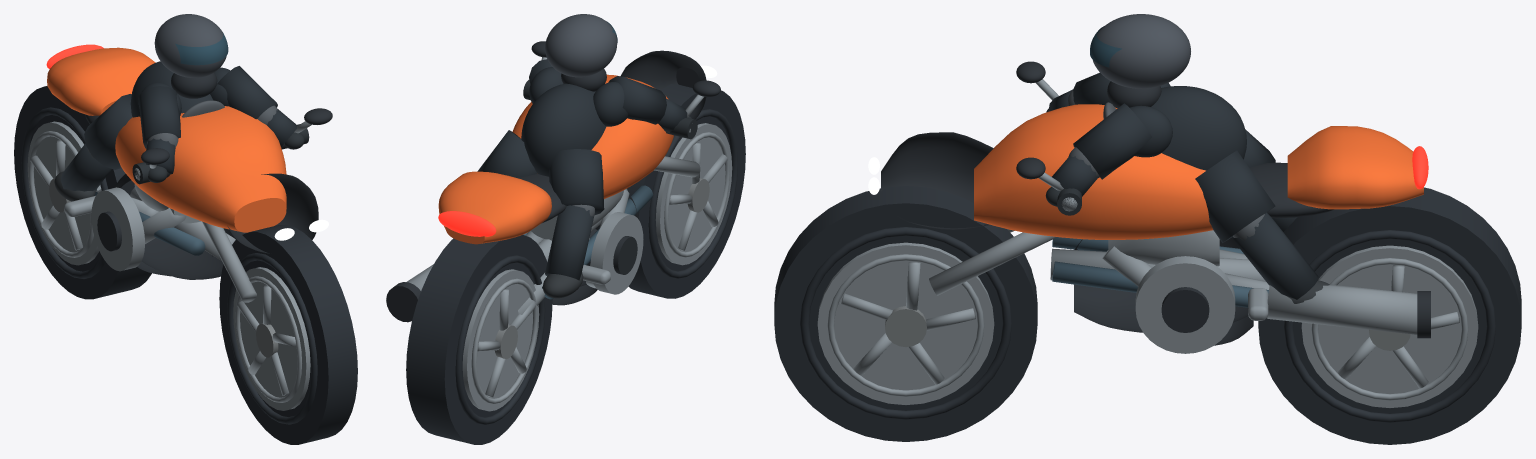
The model's file is bike_nightjar.glb.
The picture shows the model from 3 angles, left to right: view 1: azimuth 30°, elevation 25°; view 2: azimuth 150°, elevation 25°; view 3: azimuth 270°, elevation 25°; orthographic projection. The views are drawn at different scales.
Parts seen in each view (by area): view 1: Blender Vehicle - Nightjar Streetfighter.016 - Vehicle Body, WheelMesh_BikeWheel_Front_bike_nightjar.016, WheelMesh_BikeWheel_Rear_bike_nightjar.016; view 2: Blender Vehicle - Nightjar Streetfighter.016 - Vehicle Body, WheelMesh_BikeWheel_Rear_bike_nightjar.016, WheelMesh_BikeWheel_Front_bike_nightjar.016; view 3: Blender Vehicle - Nightjar Streetfighter.016 - Vehicle Body, WheelMesh_BikeWheel_Front_bike_nightjar.016, WheelMesh_BikeWheel_Rear_bike_nightjar.016.
Part boxes in pixels (x1=…): Blender Vehicle - Nightjar Streetfighter.016 - Vehicle Body: x1=46, y1=14, x2=332, y2=302; WheelMesh_BikeWheel_Front_bike_nightjar.016: x1=219, y1=225, x2=357, y2=444; WheelMesh_BikeWheel_Rear_bike_nightjar.016: x1=14, y1=85, x2=151, y2=299; Blender Vehicle - Nightjar Streetfighter.016 - Vehicle Body: x1=386, y1=14, x2=720, y2=322; WheelMesh_BikeWheel_Rear_bike_nightjar.016: x1=406, y1=235, x2=552, y2=444; WheelMesh_BikeWheel_Front_bike_nightjar.016: x1=627, y1=84, x2=745, y2=298; Blender Vehicle - Nightjar Streetfighter.016 - Vehicle Body: x1=868, y1=14, x2=1430, y2=353; WheelMesh_BikeWheel_Front_bike_nightjar.016: x1=774, y1=186, x2=1037, y2=441; WheelMesh_BikeWheel_Rear_bike_nightjar.016: x1=1258, y1=187, x2=1521, y2=444.
Bounding box in the file's own units: 1.16 × 2.01 × 3.29.
